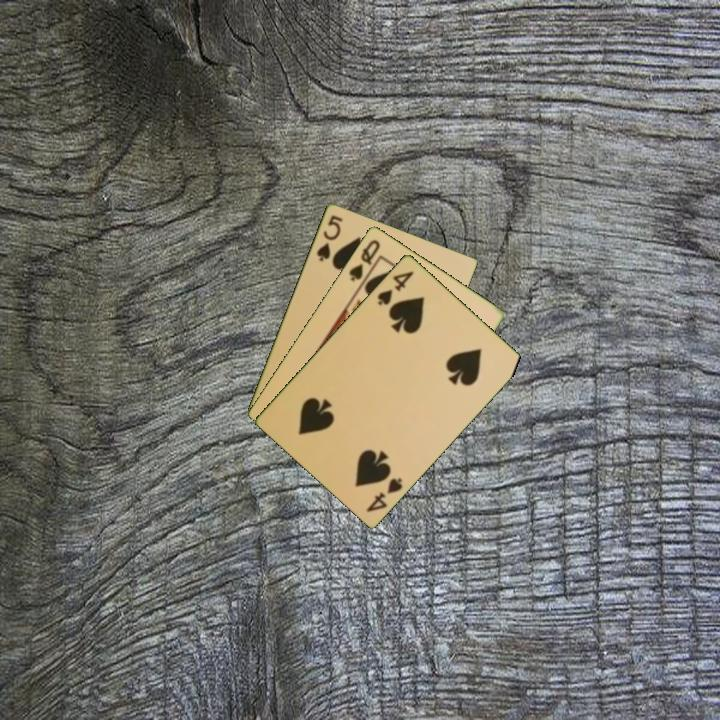4s: (362, 474, 406, 515), (374, 267, 417, 308)
5s: (313, 211, 345, 264)
Qs: (345, 236, 383, 284)
